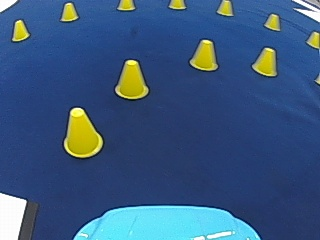cone: (63, 106, 102, 156), (114, 58, 148, 99), (189, 38, 218, 71), (252, 46, 278, 76), (11, 18, 29, 41), (60, 1, 78, 21), (264, 13, 280, 30), (216, 0, 233, 16), (306, 30, 318, 48), (117, 0, 134, 11), (168, 0, 185, 9)
